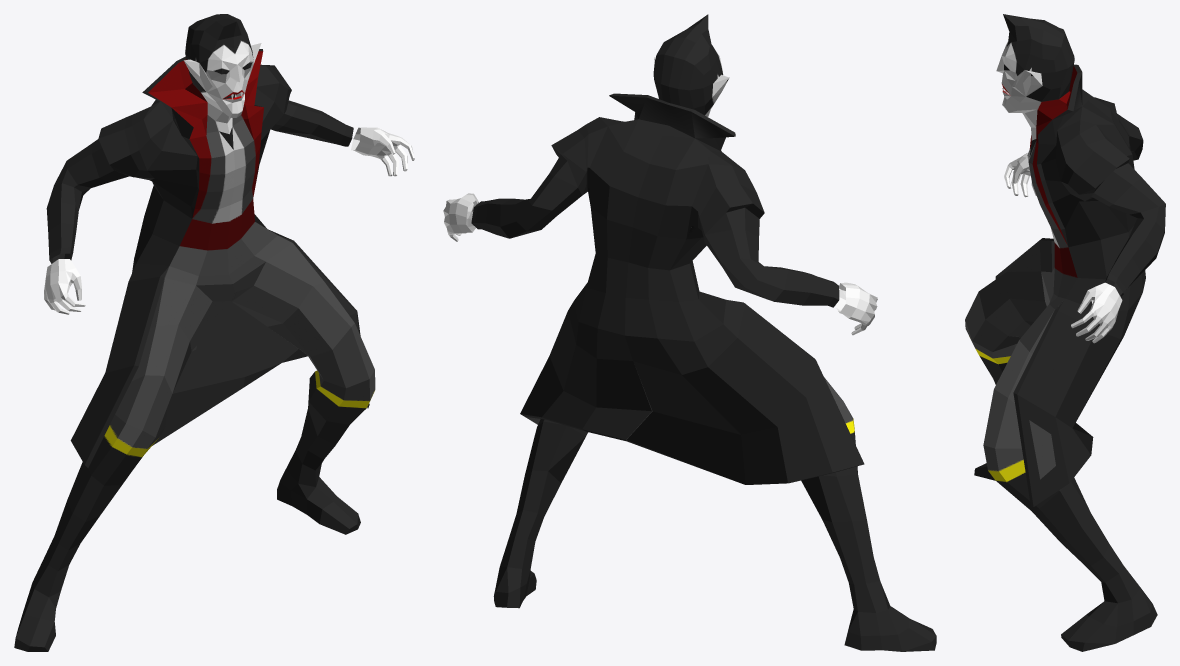
File: VampireAttack(101).obj
The picture shows the model from 3 angles, left to right: view 1: azimuth 30°, elevation 25°; view 2: azimuth 150°, elevation 25°; view 3: azimuth 270°, elevation 25°; orthographic projection. The views are drawn at different scales.
Parts seen in each view (by area): view 1: Plane002; view 2: Plane002; view 3: Plane002.
Boxes of the visible parts, x1,y1,x2,y2 form: Plane002: (14,14,414,651); Plane002: (443,14,936,651); Plane002: (965,14,1165,651).
Size of the model in its own units: 237 by 295 by 95.97.
